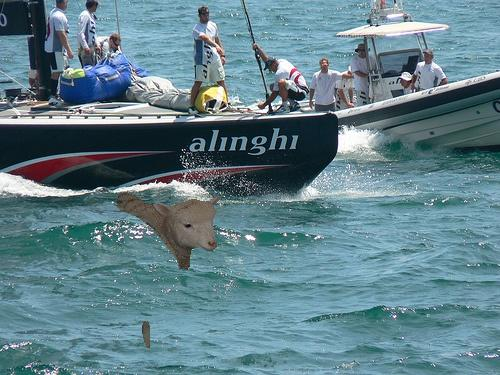tampered: (118, 194, 222, 348)
